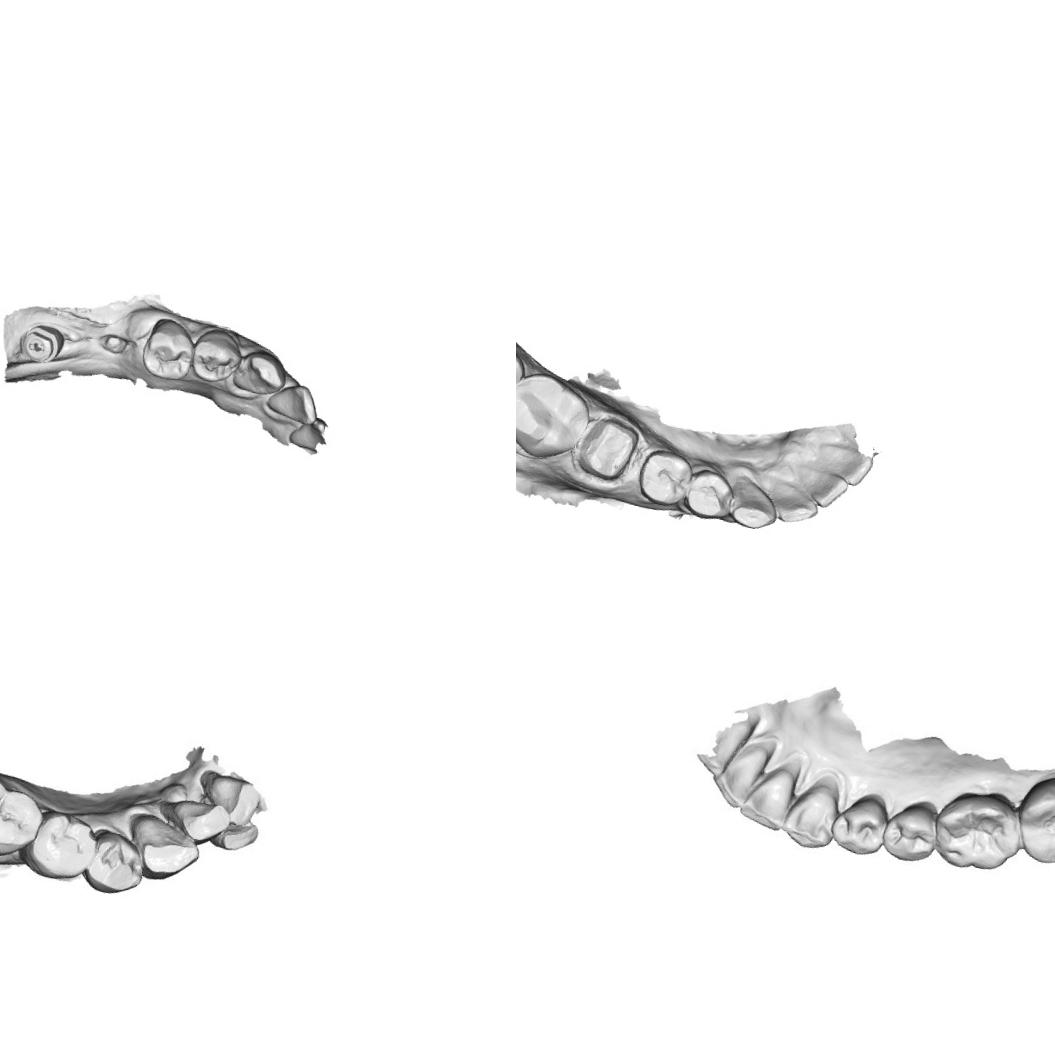canine: (778, 767, 850, 856), (122, 808, 202, 887), (724, 471, 784, 535), (230, 344, 290, 399)
crown: (570, 408, 646, 489)
implant_minus: (15, 319, 66, 368)
incisor: (708, 734, 776, 819), (740, 760, 800, 834), (193, 768, 262, 828), (164, 792, 230, 848), (785, 460, 852, 513), (760, 476, 825, 530), (262, 378, 323, 429), (816, 441, 876, 490), (205, 813, 262, 856)
molar: (516, 365, 598, 468), (937, 788, 1026, 874), (0, 757, 44, 861), (1017, 775, 1055, 867)
premolar: (875, 788, 944, 874), (28, 807, 101, 886), (827, 782, 896, 860), (82, 824, 148, 900), (136, 314, 201, 384), (632, 444, 697, 511), (186, 324, 245, 386), (681, 464, 739, 525)
